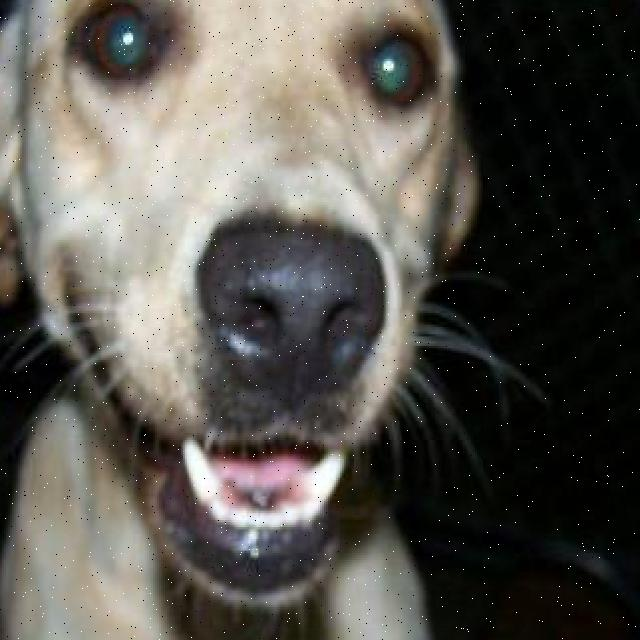Dog: (0, 0, 523, 614)
